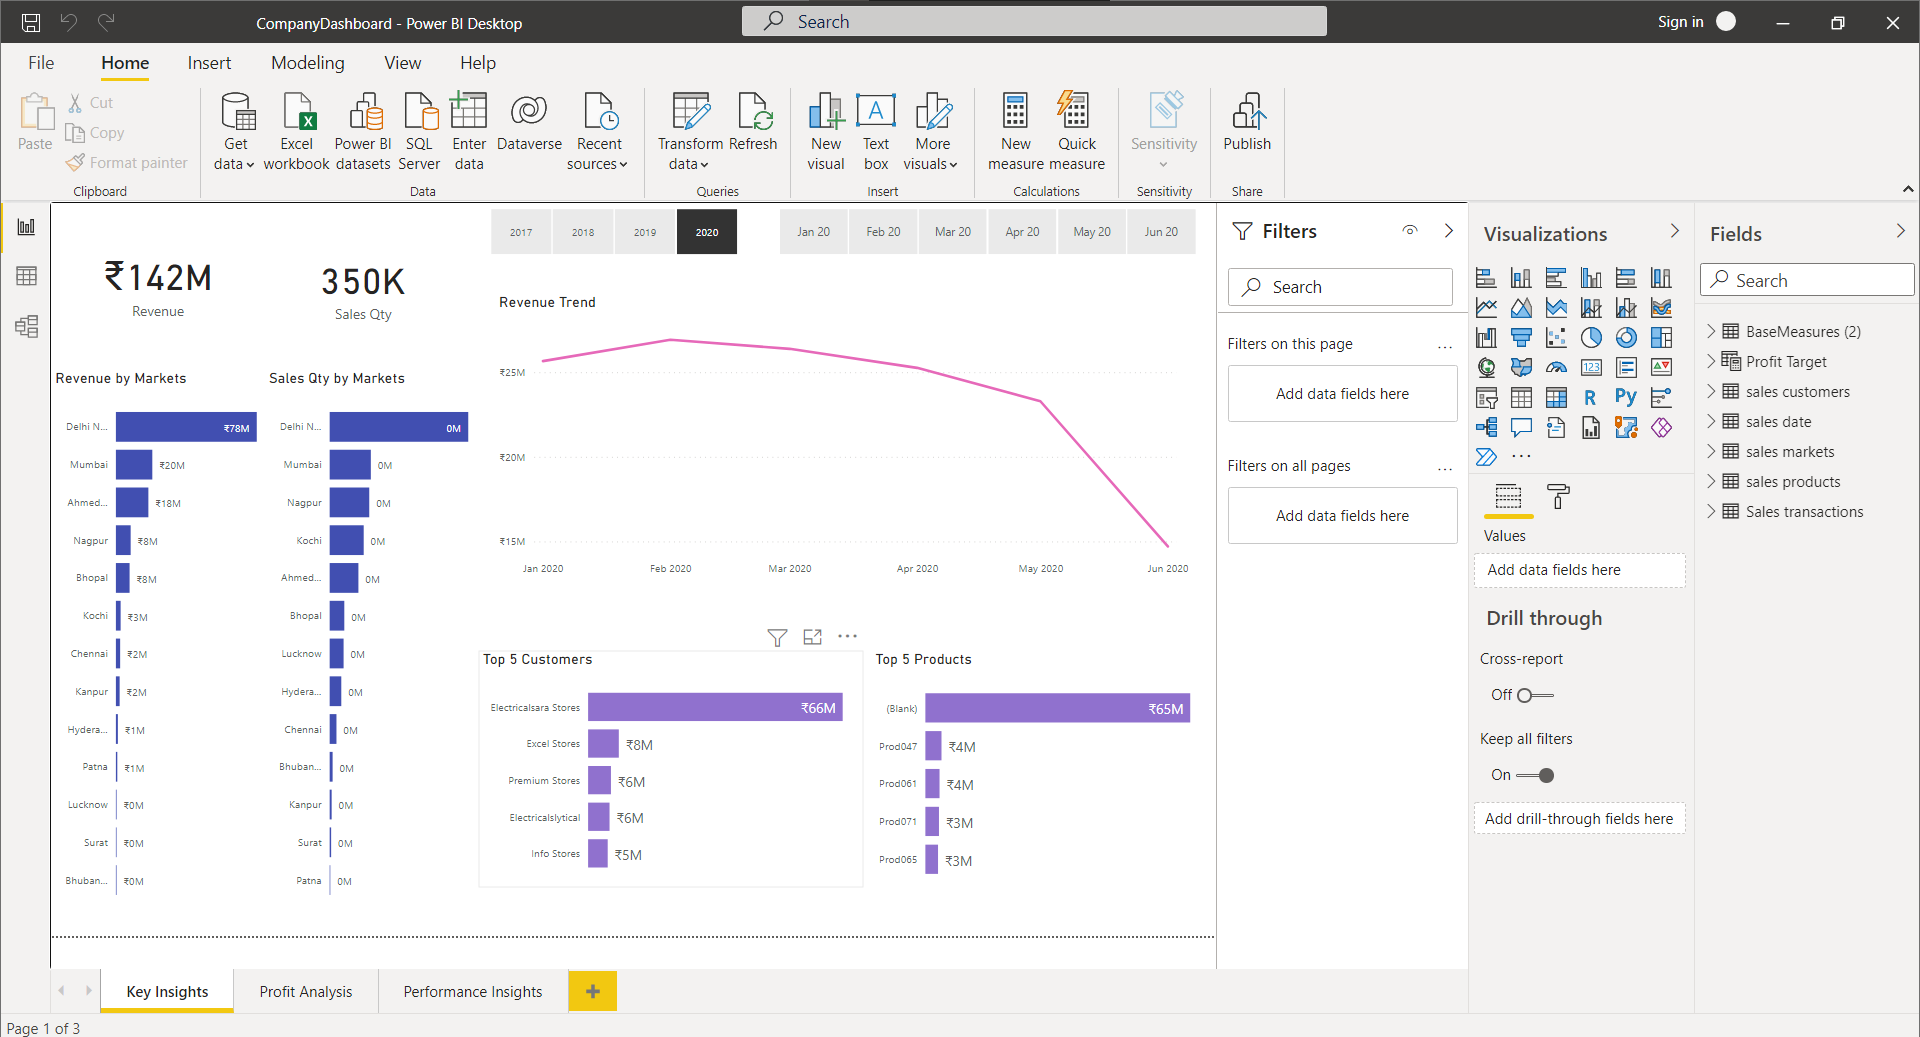

The page's visual inventory and layout, read from the dashboard file:
{"tool":"powerbi","page":{"name":"Key Insights","canvas":[1350,850],"ordinal":0},"visuals":[{"type":"card","fields":{"Values":["BaseMeasures (2).Revenue"]},"box":[0,0,247.9,184.6],"z":0},{"type":"card","fields":{"Values":["BaseMeasures (2).Sales Qty"]},"box":[247.9,0,227.9,193.1],"z":1000},{"type":"barChart","title":"Revenue by Markets","fields":{"Y":["BaseMeasures (2).Revenue"],"Category":["sales markets.markets_name"]},"box":[0,193.1,247.9,631.9],"z":2000},{"type":"barChart","title":"Sales Qty by Markets","fields":{"Y":["BaseMeasures (2).Sales Qty"],"Category":["sales markets.markets_name"]},"box":[247.9,193.1,247.9,631.9],"z":3000},{"type":"slicer","fields":{"Values":["sales date.year"]},"box":[483.2,0,335.5,66.5],"z":4000},{"type":"slicer","fields":{"Values":["sales date.cy_date"]},"box":[818.6,0,531.7,66.5],"z":5000},{"type":"barChart","title":"Top 5 Customers","fields":{"Y":["BaseMeasures (2).Revenue"],"Category":["sales customers.custmer_name"]},"box":[495.8,519,446.2,274.3],"z":6000},{"type":"barChart","title":"Top 5 Products","fields":{"Y":["BaseMeasures (2).Revenue"],"Category":["sales products.product_code"]},"box":[950.7,519.2,399.5,282.8],"z":7000},{"type":"lineChart","title":"Revenue Trend","fields":{"Y":["BaseMeasures (2).Revenue"],"Category":["sales date.cy_date"]},"box":[513.8,104.4,809.1,338.6],"z":8000}]}

Visuals, with their boxes on the page's 1350x850 design canvas (x1, y1, x2, y2). These are canvas units, not pixel positions in the 1920x1037 screenshot, which may show the page scaled, cropped or inside an application window:
card - BaseMeasures (2).Revenue: detection(0, 0, 248, 185)
card - BaseMeasures (2).Sales Qty: detection(248, 0, 476, 193)
"Revenue by Markets" barChart: detection(0, 193, 248, 825)
"Sales Qty by Markets" barChart: detection(248, 193, 496, 825)
slicer - sales date.year: detection(483, 0, 819, 66)
slicer - sales date.cy_date: detection(819, 0, 1350, 66)
"Top 5 Customers" barChart: detection(496, 519, 942, 793)
"Top 5 Products" barChart: detection(951, 519, 1350, 802)
"Revenue Trend" lineChart: detection(514, 104, 1323, 443)
